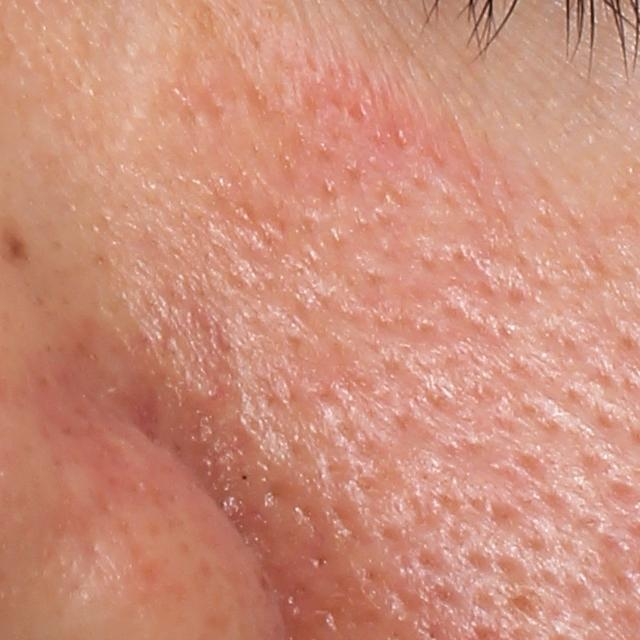nevus: (2, 234, 29, 265)
